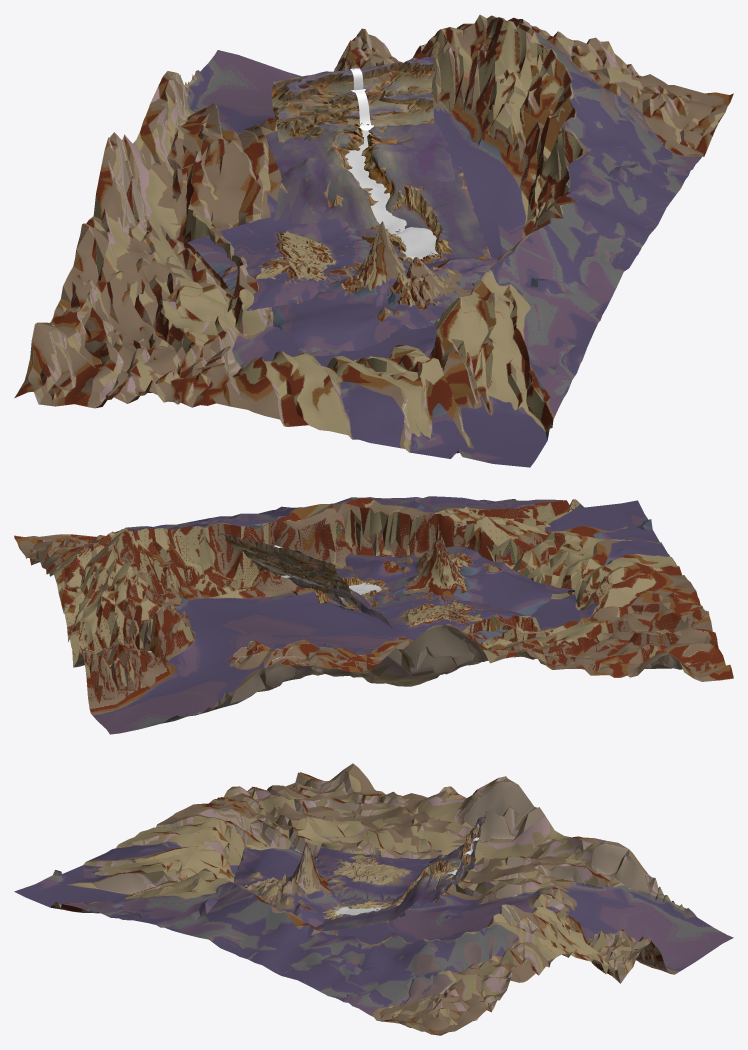
The model's file is terrain_v2.fbx.
The picture shows the model from 3 angles, top to bottom: view 1: azimuth 30°, elevation 25°; view 2: azimuth 150°, elevation 25°; view 3: azimuth 270°, elevation 25°; orthographic projection. The views are drawn at different scales.
Visible parts, largest first — view 1: background_canyon, goal_mountain, big_start_canyon, outer_plateau, backing_cliff2, lower_lake_canyon, river, lake; view 2: background_canyon, goal_mountain, outer_plateau, backing_cliff2, lower_lake_canyon, big_start_canyon; view 3: background_canyon, goal_mountain, outer_plateau, big_start_canyon, lower_lake_canyon, backing_cliff2.
Part boxes in pixels (left/top/right/bottom): background_canyon: left=14, top=14, right=733, bottom=467; goal_mountain: left=271, top=221, right=499, bottom=356; big_start_canyon: left=266, top=122, right=454, bottom=230; outer_plateau: left=187, top=216, right=371, bottom=310; backing_cliff2: left=271, top=56, right=434, bottom=143; lower_lake_canyon: left=358, top=166, right=492, bottom=263; river: left=345, top=129, right=406, bottom=234; lake: left=395, top=227, right=437, bottom=259; background_canyon: left=14, top=496, right=733, bottom=734; goal_mountain: left=345, top=534, right=574, bottom=616; outer_plateau: left=338, top=592, right=526, bottom=643; backing_cliff2: left=219, top=533, right=358, bottom=605; lower_lake_canyon: left=314, top=566, right=400, bottom=611; big_start_canyon: left=252, top=561, right=394, bottom=628; background_canyon: left=14, top=763, right=733, bottom=1035; goal_mountain: left=234, top=842, right=341, bottom=935; outer_plateau: left=315, top=846, right=441, bottom=900; big_start_canyon: left=391, top=843, right=464, bottom=915; lower_lake_canyon: left=316, top=898, right=405, bottom=931; backing_cliff2: left=435, top=811, right=486, bottom=902.
Size of the model in its own units: 196165 by 33839 by 203740.
